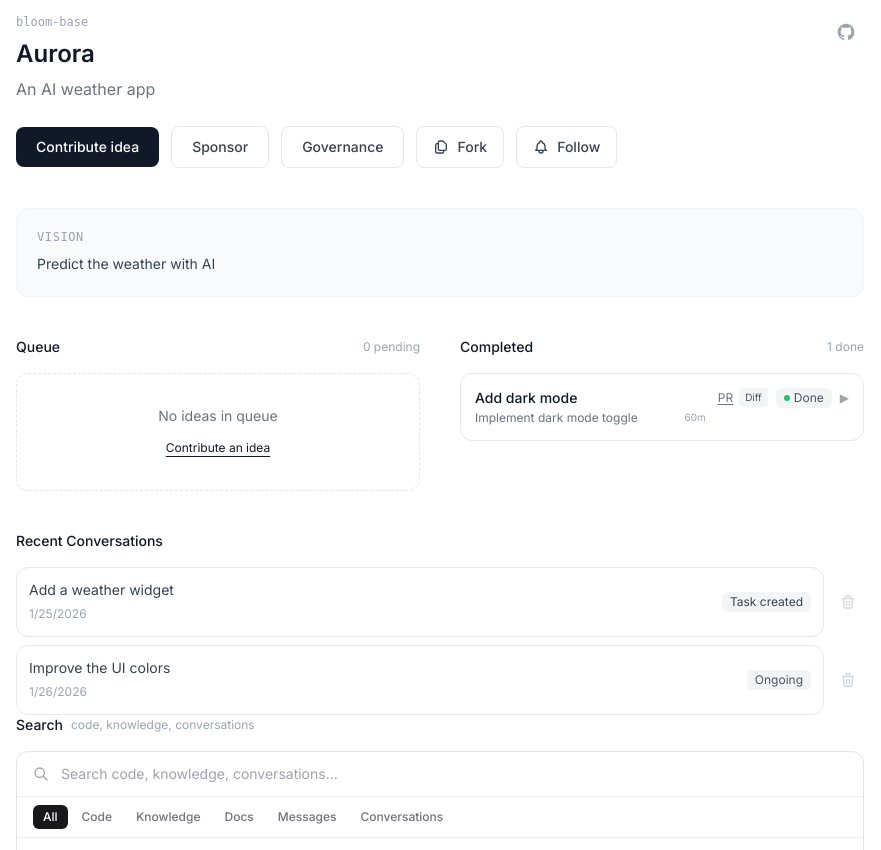
Test: ProjectPage › Delete Conversation › deletes conversation when confirmed
Expected: the text "Add a weather widget" is shown, top-left (29, 581), bottom-right (174, 598)
Click the button titled "Delete" next to "Task created" at (848,602), box top-left (832, 586), bottom-right (864, 618)
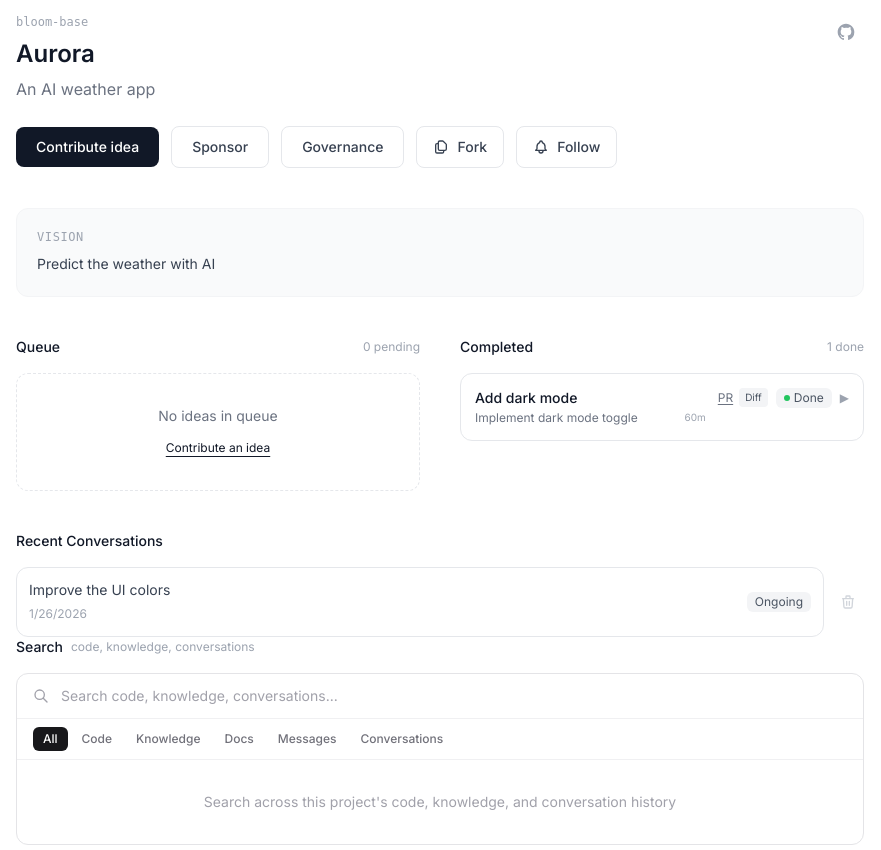
Expected: the text "Improve the UI colors" is shown, top-left (29, 581), bottom-right (170, 598)
Result: the link "Add a weather widget" is gone
